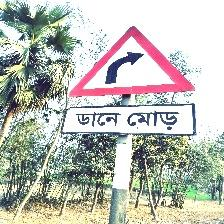Right-turn: (64, 25, 197, 136)
